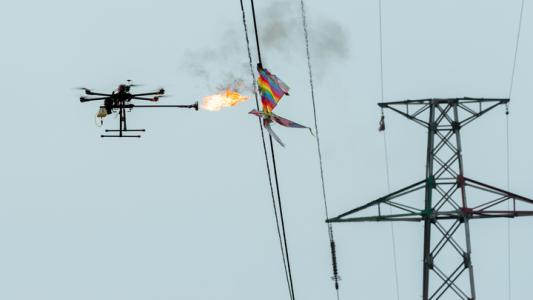kite: (243, 60, 309, 147)
